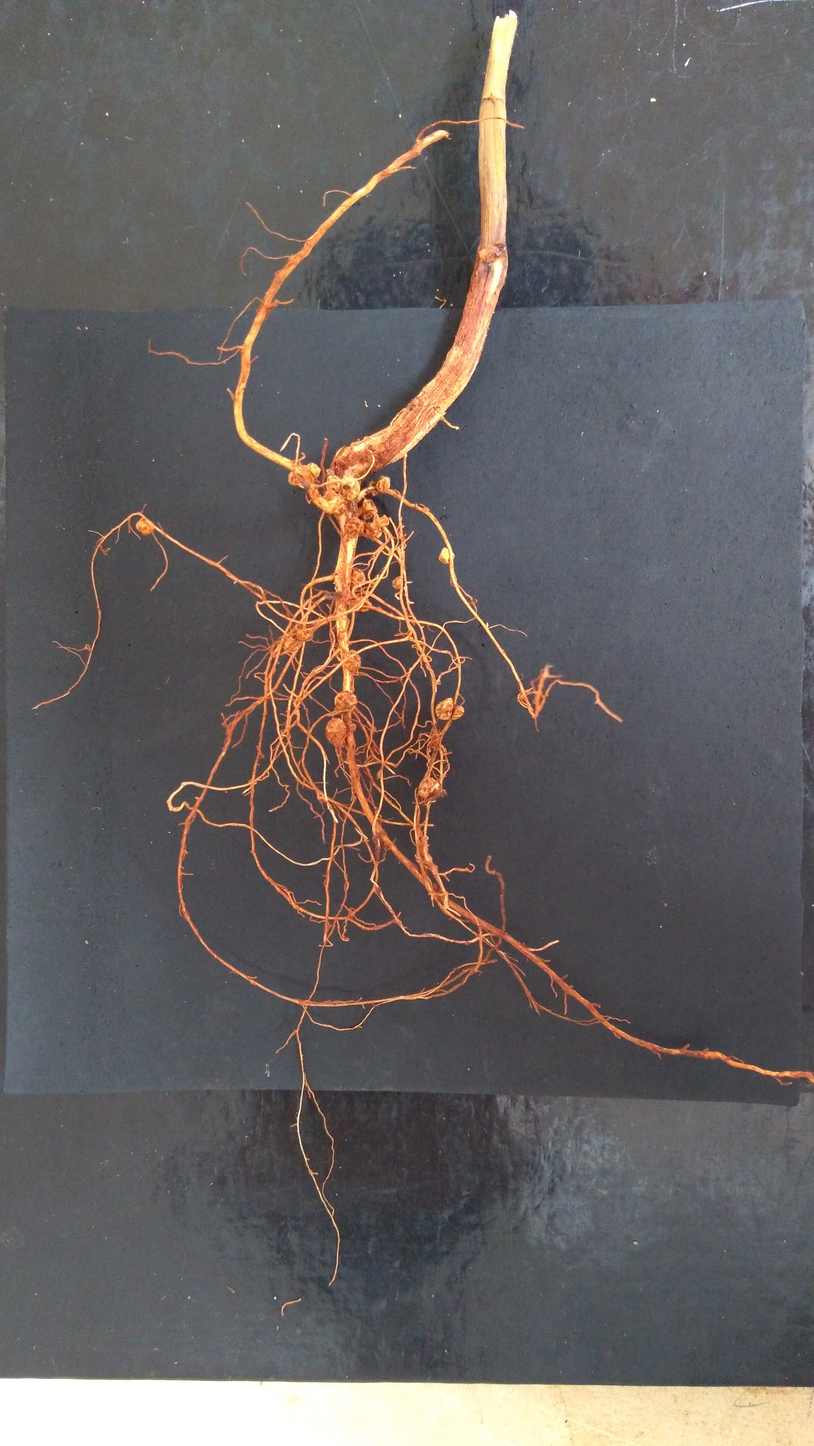nodule: (288, 462, 321, 489), (325, 718, 346, 748), (334, 691, 357, 712), (341, 477, 360, 501), (418, 777, 439, 798), (324, 489, 344, 511), (345, 517, 365, 539), (435, 697, 454, 720), (479, 245, 501, 262), (361, 499, 378, 520), (351, 566, 365, 591), (344, 650, 360, 671), (136, 518, 154, 535), (283, 636, 302, 652), (365, 523, 382, 539), (439, 548, 455, 564), (326, 475, 341, 492), (348, 593, 361, 612), (373, 514, 389, 529), (376, 476, 390, 493), (296, 629, 314, 641), (366, 481, 379, 496), (335, 447, 350, 460), (360, 597, 372, 612), (452, 706, 464, 720), (392, 576, 402, 590), (348, 499, 358, 512), (317, 796, 327, 803), (349, 723, 356, 732), (433, 882, 440, 891), (348, 909, 355, 918), (338, 633, 345, 639), (371, 726, 376, 732), (424, 507, 429, 511)
